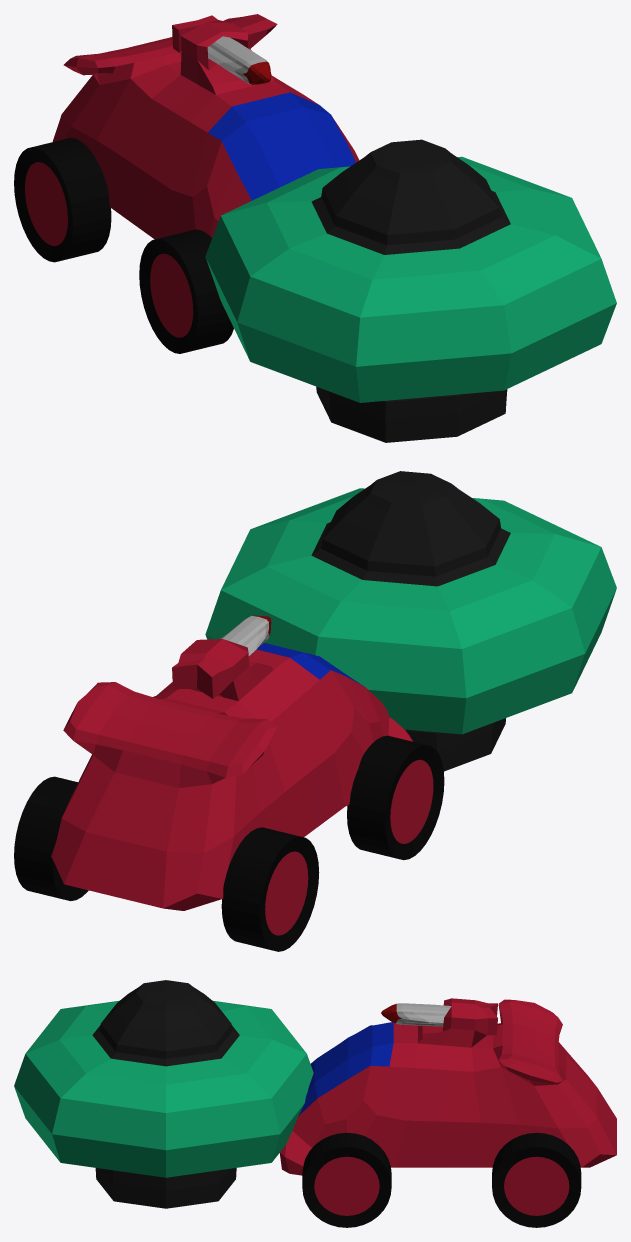
The model's file is Bumper.obj.
3 views of the same model, one above another, from view 1: azimuth 30°, elevation 25°; view 2: azimuth 150°, elevation 25°; view 3: azimuth 270°, elevation 25° (orthographic). The views are drawn at different scales.
Visible parts, largest first — view 1: Cube.003_Cube.004, Cube, Cube.002, Cube.005; view 2: Cube, Cube.003_Cube.004, Cube.002, Cube.005; view 3: Cube, Cube.003_Cube.004, Cube.002, Cube.005.
Part boxes in pixels (x1,y1,x2,y2): Cube.003_Cube.004: (205, 139, 616, 442); Cube: (14, 14, 359, 353); Cube.002: (172, 15, 273, 94); Cube.005: (207, 36, 271, 84); Cube: (14, 643, 444, 951); Cube.003_Cube.004: (205, 471, 616, 771); Cube.002: (172, 639, 273, 700); Cube.005: (221, 615, 271, 655); Cube: (279, 999, 616, 1227); Cube.003_Cube.004: (14, 980, 313, 1208); Cube.002: (418, 998, 497, 1047); Cube.005: (381, 1003, 451, 1026).
Bounding box in the file's own units: 5.36 × 3.71 × 10.62.
